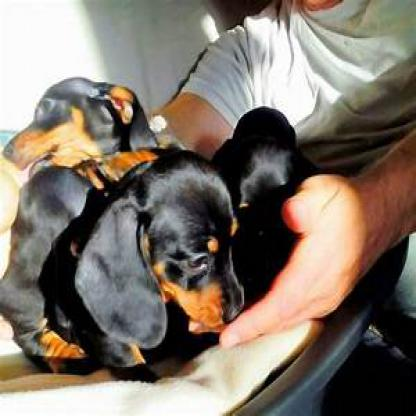dog: (4, 152, 246, 362), (3, 76, 159, 171)
